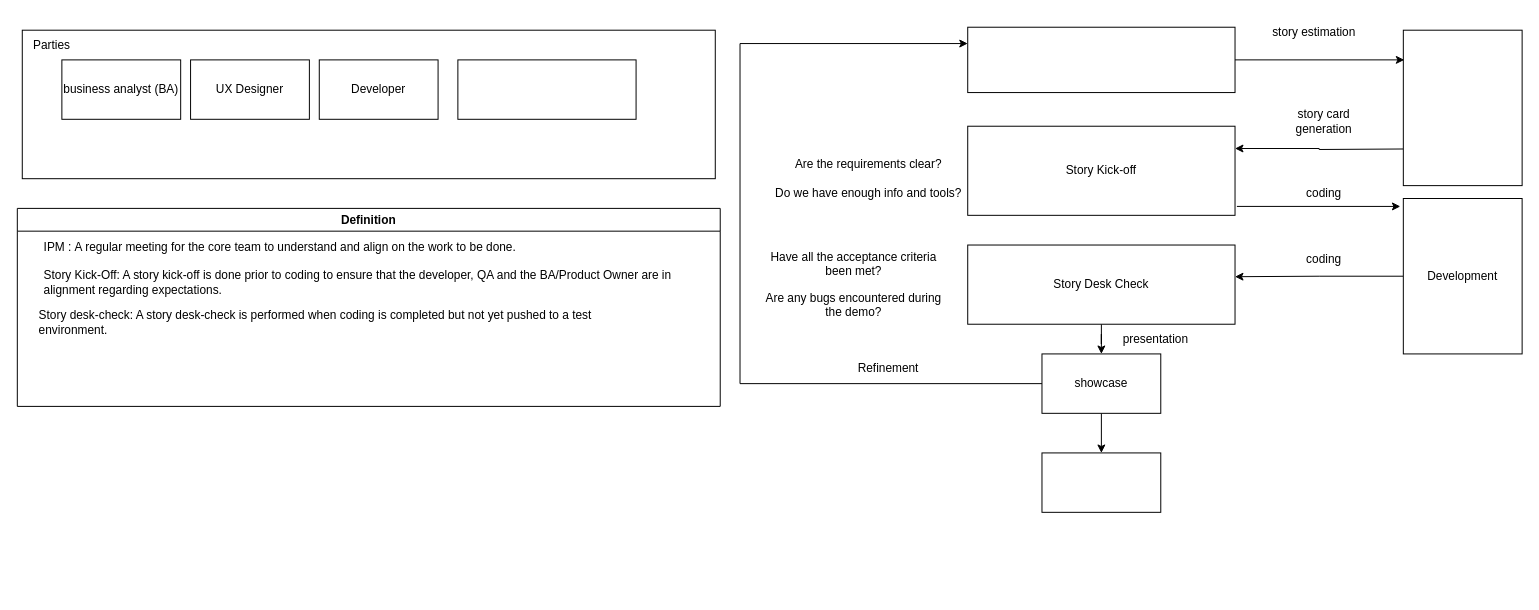
This 1539x610 diagram has some shape labels left out. Each missing label, with the centre of its shape:
IPM (Iteration Planning Meeting): point (1101, 59)
production: point (1101, 482)
Quality assurance (QA): point (546, 89)
User Story: point (1462, 107)
